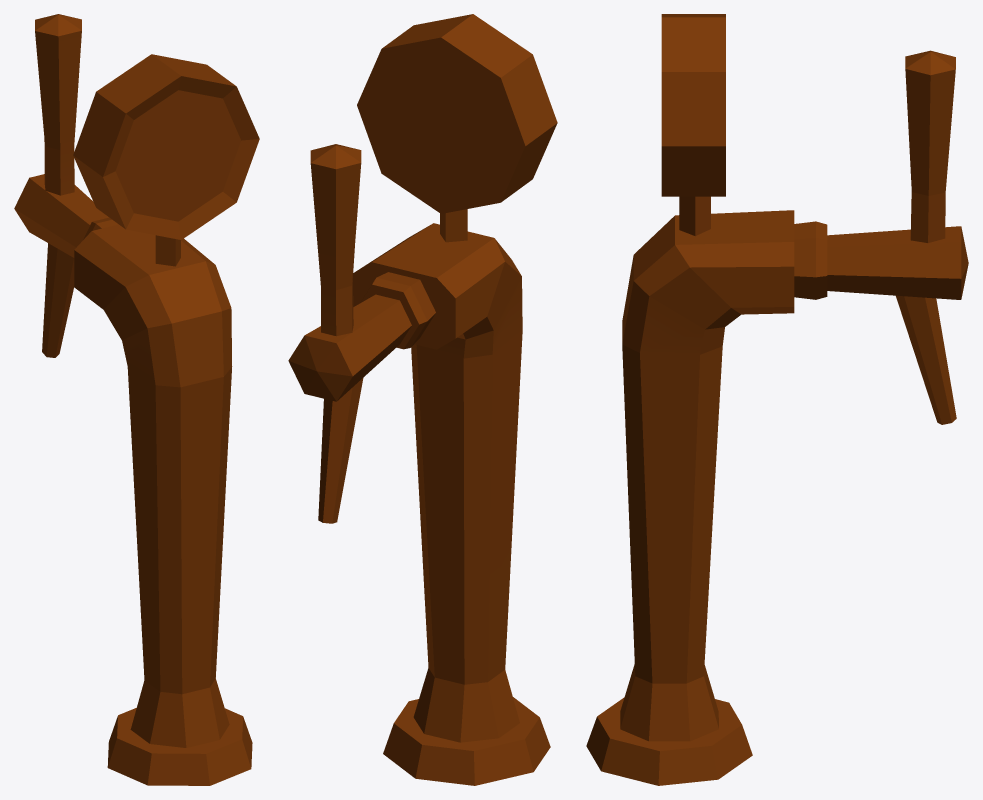
Rendered from SM_Prop_Bar_Tap_03.obj.
3 renders of one model, left to right at view 1: azimuth 30°, elevation 25°; view 2: azimuth 150°, elevation 25°; view 3: azimuth 270°, elevation 25°, orthographic. The views are drawn at different scales.
Visible parts, largest first — view 1: SM_Prop_Bar_Tap_03_0; view 2: SM_Prop_Bar_Tap_03_0; view 3: SM_Prop_Bar_Tap_03_0.
Boxes of the visible parts, x1,y1,x2,y2 form: SM_Prop_Bar_Tap_03_0: [14, 14, 259, 785]; SM_Prop_Bar_Tap_03_0: [288, 14, 557, 785]; SM_Prop_Bar_Tap_03_0: [586, 14, 968, 785].
Size of the model in its own units: 0.1385 by 0.5762 by 0.2727.
